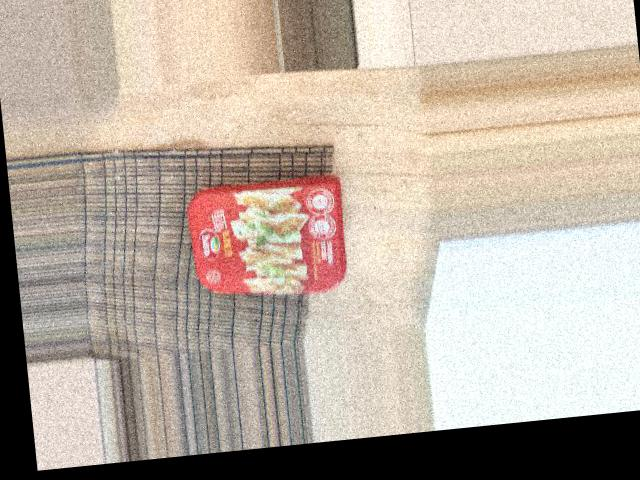cheese: (176, 192, 354, 313)
